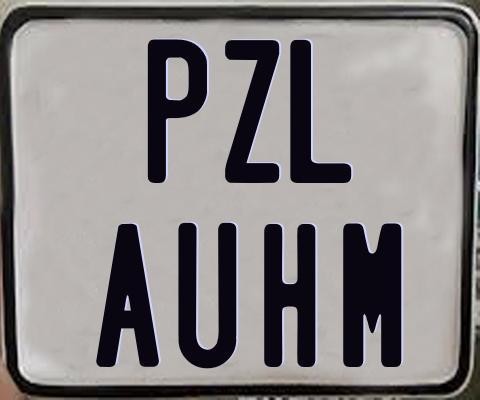A: (95, 224, 161, 367)
H: (261, 222, 314, 366)
L: (290, 40, 352, 185)
M: (342, 222, 403, 368)
P: (146, 37, 209, 186)
U: (178, 223, 237, 372)
Z: (225, 38, 283, 184)
